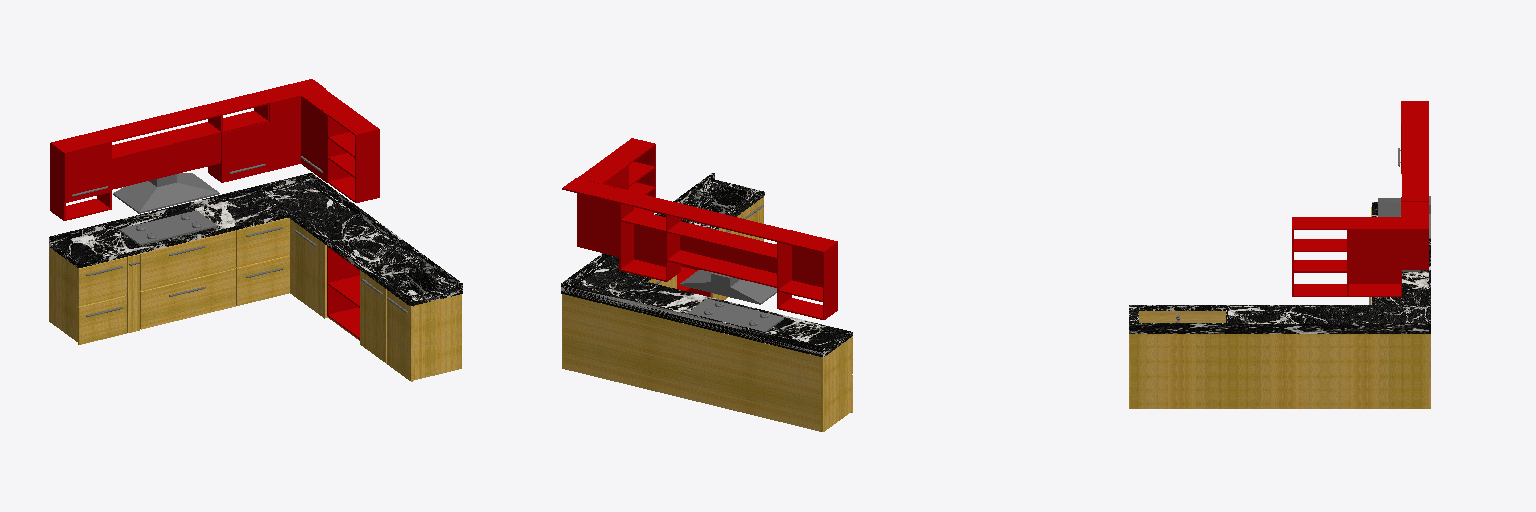
3 views of the same model, side by side, from view 1: azimuth 30°, elevation 25°; view 2: azimuth 150°, elevation 25°; view 3: azimuth 270°, elevation 25° (orthographic).
Parts seen in each view (by area): view 1: Cube.004_Cube.005, Cube.025_Cube.032, Cube.010_Cube.011, Cube.008_Cube.009, Cube.003_Cube.004, Cube.018_Cube.023, Cube.012_Cube.013, Cube.016_Cube.000, Cube.027_Cube.034, Cube.026_Cube.033, Cube.049_Cube.048, Cube.021_Cube.026 (+18 smaller); view 2: Cube.001_Cube.002, Cube.004_Cube.005, Cube.025_Cube.032, Cube.016_Cube.000, Cube.019_Cube.040, Cube.042_Cube, Cube.040_Cube.041, Cube.018_Cube.023, Cube.020_Cube.025, Cube.027_Cube.034, Cube.026_Cube.033, Cube.017_Cube.020 (+10 smaller); view 3: Cube.001_Cube.002, Cube.004_Cube.005, Cube.025_Cube.032, Cube.034_Cube.019, Cube.032_Cube.039, Cube.050_Cube.049, Cube.036_Cube.022, Cube.031_Cube.017, Cube.039_Cube.038, Cube.038_Cube.030, Cube.037_Cube.029, Cube.041_Cube.042.
Boxes of the visible parts, x1=… form: Cube.004_Cube.005: x1=49, y1=173, x2=462, y2=306; Cube.025_Cube.032: x1=52, y1=79, x2=325, y2=151; Cube.010_Cube.011: x1=140, y1=268, x2=235, y2=329; Cube.008_Cube.009: x1=140, y1=230, x2=235, y2=290; Cube.003_Cube.004: x1=415, y1=294, x2=461, y2=379; Cube.018_Cube.023: x1=112, y1=132, x2=220, y2=189; Cube.012_Cube.013: x1=290, y1=219, x2=327, y2=318; Cube.016_Cube.000: x1=113, y1=173, x2=219, y2=213; Cube.027_Cube.034: x1=221, y1=122, x2=269, y2=182; Cube.026_Cube.033: x1=64, y1=141, x2=111, y2=201; Cube.049_Cube.048: x1=327, y1=246, x2=359, y2=339; Cube.021_Cube.026: x1=269, y1=95, x2=300, y2=170; Cube.001_Cube.002: x1=562, y1=294, x2=850, y2=431; Cube.004_Cube.005: x1=561, y1=173, x2=852, y2=357; Cube.025_Cube.032: x1=562, y1=178, x2=835, y2=252; Cube.016_Cube.000: x1=680, y1=270, x2=776, y2=304; Cube.019_Cube.040: x1=667, y1=221, x2=776, y2=258; Cube.042_Cube: x1=688, y1=299, x2=783, y2=331; Cube.040_Cube.041: x1=667, y1=250, x2=776, y2=287; Cube.018_Cube.023: x1=680, y1=236, x2=776, y2=273; Cube.020_Cube.025: x1=577, y1=183, x2=600, y2=252; Cube.027_Cube.034: x1=634, y1=225, x2=665, y2=266; Cube.026_Cube.033: x1=791, y1=230, x2=837, y2=287; Cube.017_Cube.020: x1=823, y1=242, x2=837, y2=319; Cube.001_Cube.002: x1=1131, y1=334, x2=1430, y2=408; Cube.004_Cube.005: x1=1129, y1=202, x2=1430, y2=333; Cube.025_Cube.032: x1=1402, y1=102, x2=1428, y2=230; Cube.034_Cube.019: x1=1349, y1=230, x2=1400, y2=283; Cube.032_Cube.039: x1=1402, y1=201, x2=1428, y2=269; Cube.050_Cube.049: x1=1139, y1=311, x2=1225, y2=322; Cube.036_Cube.022: x1=1292, y1=217, x2=1346, y2=229; Cube.031_Cube.017: x1=1347, y1=217, x2=1401, y2=229; Cube.039_Cube.038: x1=1292, y1=284, x2=1346, y2=296; Cube.038_Cube.030: x1=1292, y1=260, x2=1346, y2=272; Cube.037_Cube.029: x1=1292, y1=239, x2=1346, y2=251; Cube.041_Cube.042: x1=1349, y1=284, x2=1400, y2=296.
Bounding box in the file's own units: 133 × 88.11 × 133.
6 materials, 2 textured.